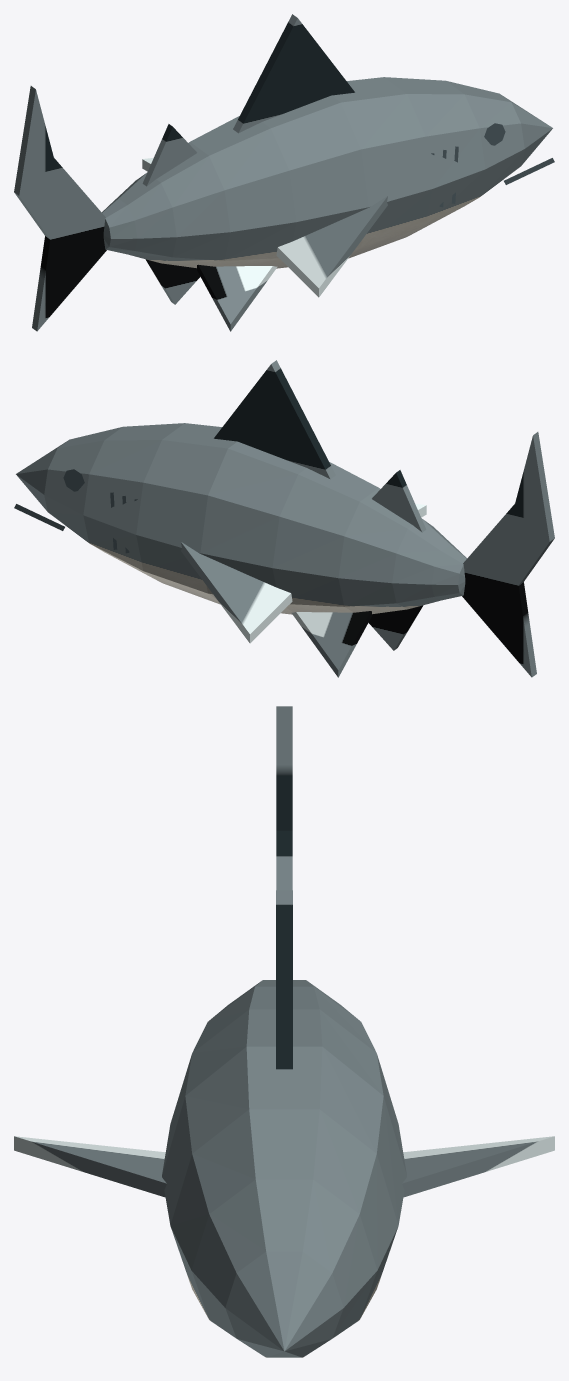
The model's file is shark.gltf.
3 renders of one model, top to bottom at view 1: azimuth 30°, elevation 25°; view 2: azimuth 150°, elevation 25°; view 3: azimuth 270°, elevation 25°, orthographic. The views are drawn at different scales.
Parts seen in each view (by area): view 1: SharkBody, SharkTail; view 2: SharkBody, SharkTail; view 3: SharkBody, SharkTail.
Part boxes in pixels (bbox=[...]): SharkBody: bbox=[102, 14, 552, 331]; SharkTail: bbox=[14, 86, 106, 331]; SharkBody: bbox=[16, 360, 466, 677]; SharkTail: bbox=[462, 432, 554, 677]; SharkBody: bbox=[14, 890, 554, 1357]; SharkTail: bbox=[276, 706, 292, 890].
Bounding box in the file's own units: 4.49 × 2.12 × 2.56.
1 material, 1 textured.
